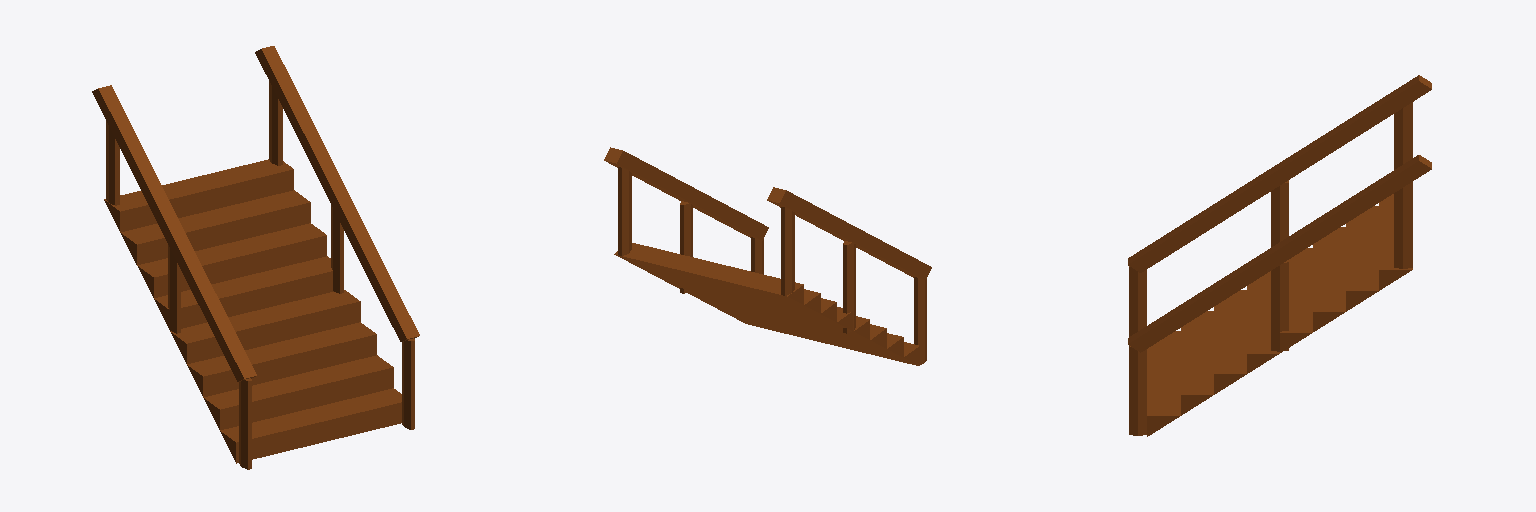
The model's file is stairs2.obj.
The picture shows the model from 3 angles: view 1: azimuth 30°, elevation 25°; view 2: azimuth 150°, elevation 25°; view 3: azimuth 270°, elevation 25°; orthographic projection.
Visible parts, largest first — view 1: Object.3, Object.2, Object.10, Object.14, Object.5, Object.4, Object.1, Object.6, Object.13, Object.9, Object.12, Object.8 (+2 smaller); view 2: Object.6, Object.10, Object.14, Object.3, Object.2, Object.8, Object.12, Object.4, Object.5, Object.1, Object.7, Object.9 (+1 smaller); view 3: Object.10, Object.14, Object.3, Object.2, Object.5, Object.4, Object.1, Object.13, Object.12, Object.6, Object.11, Object.9 (+2 smaller).
Boxes of the visible parts, x1,y1,x2,y2 form: Object.3: [187, 322, 393, 429]; Object.2: [137, 223, 333, 331]; Object.10: [92, 85, 256, 381]; Object.14: [255, 46, 419, 341]; Object.5: [220, 388, 401, 463]; Object.4: [121, 190, 310, 264]; Object.1: [171, 290, 360, 363]; Object.6: [104, 159, 293, 232]; Object.13: [402, 338, 414, 429]; Object.9: [239, 378, 251, 469]; Object.12: [269, 81, 282, 165]; Object.8: [106, 121, 119, 205]; Object.6: [614, 243, 803, 304]; Object.10: [767, 187, 931, 279]; Object.14: [604, 147, 768, 240]; Object.3: [698, 298, 903, 357]; Object.2: [648, 272, 853, 331]; Object.8: [781, 207, 794, 295]; Object.12: [618, 167, 631, 255]; Object.4: [631, 263, 820, 313]; Object.5: [732, 316, 919, 365]; Object.1: [688, 292, 869, 339]; Object.7: [843, 241, 855, 333]; Object.9: [914, 277, 926, 364]; Object.10: [1128, 75, 1431, 272]; Object.14: [1128, 155, 1431, 352]; Object.3: [1181, 290, 1246, 415]; Object.2: [1280, 227, 1345, 352]; Object.5: [1147, 331, 1180, 436]; Object.4: [1346, 206, 1378, 311]; Object.1: [1247, 271, 1279, 373]; Object.13: [1129, 346, 1146, 435]; Object.12: [1394, 182, 1412, 268]; Object.6: [1379, 194, 1412, 290]; Object.11: [1271, 260, 1288, 351]; Object.9: [1129, 266, 1146, 336].
Bounding box in the file's own units: 2 × 3 × 3.